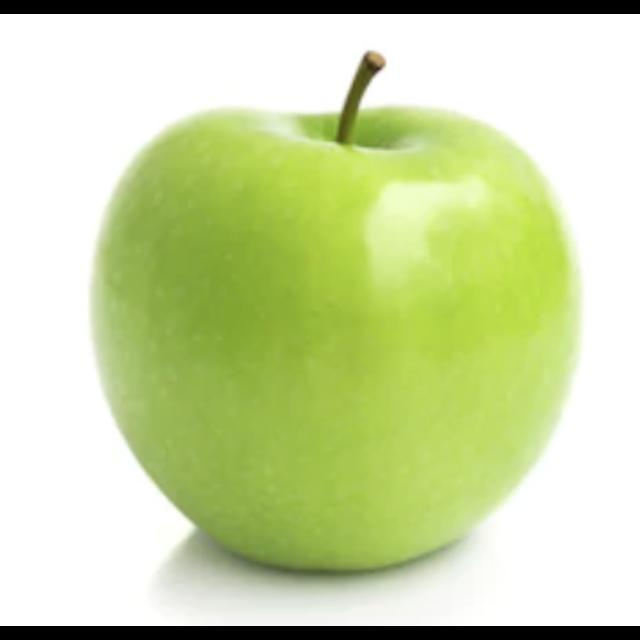Apel Segar: (86, 51, 588, 579)
